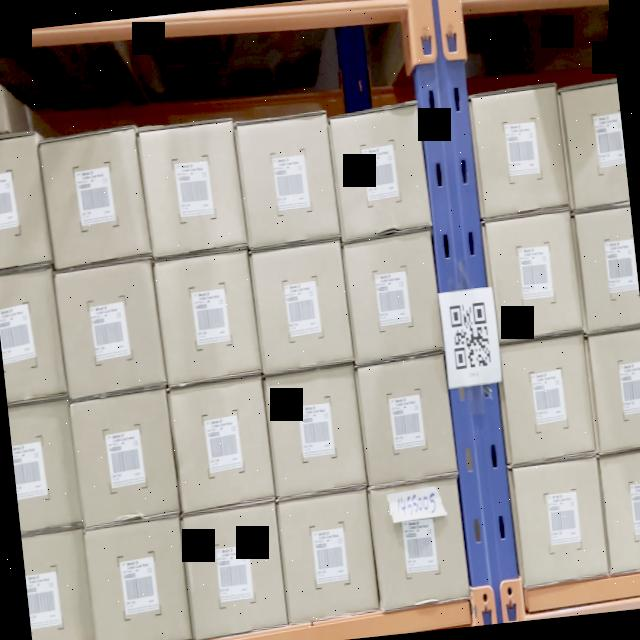box: (70, 390, 178, 524), (44, 130, 148, 266), (181, 505, 287, 637), (54, 266, 164, 390), (140, 125, 246, 252), (238, 114, 338, 248), (156, 251, 258, 382), (168, 382, 274, 508), (264, 366, 364, 498), (250, 246, 354, 370), (331, 110, 429, 240), (357, 356, 456, 483), (470, 90, 570, 215), (369, 482, 469, 604), (512, 459, 608, 586), (486, 212, 580, 341), (278, 498, 378, 619), (84, 525, 189, 640), (344, 237, 444, 357), (501, 340, 596, 463)
